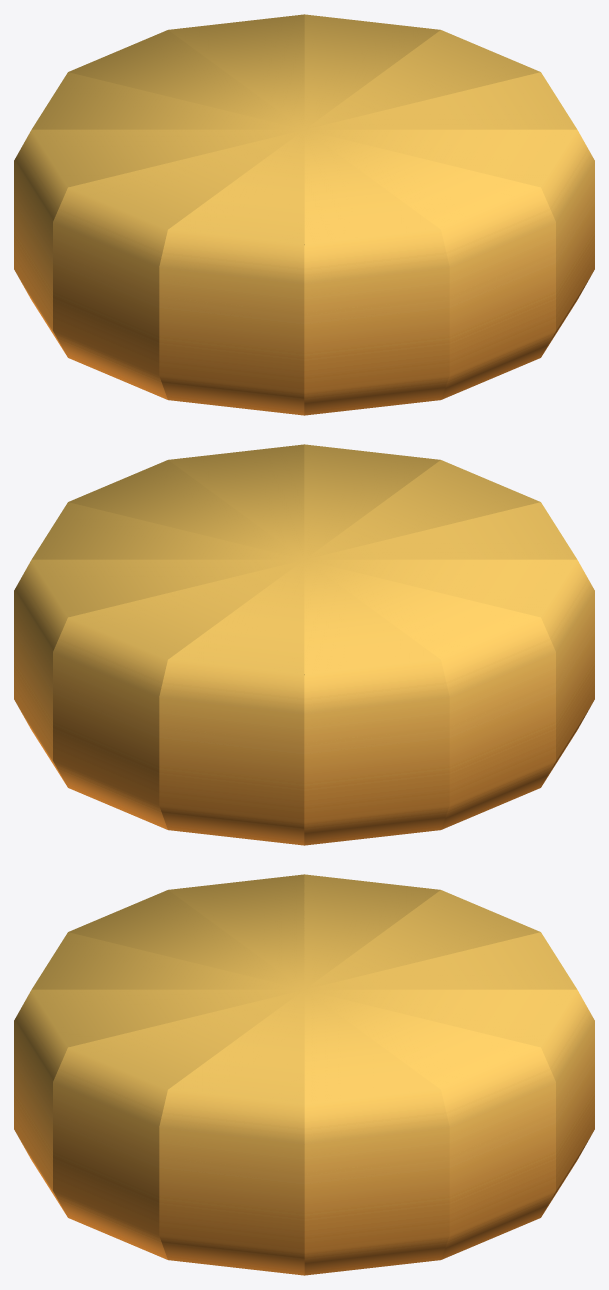
3 renders of one model, top to bottom at view 1: azimuth 30°, elevation 25°; view 2: azimuth 150°, elevation 25°; view 3: azimuth 270°, elevation 25°, orthographic.
Visible parts, largest first — view 1: wedge (×12); view 2: wedge (×12); view 3: wedge (×12).
Boxes of the visible parts, x1,y1,x2,y2 form: wedge (×12): [14, 14, 594, 415]; wedge (×12): [14, 444, 594, 845]; wedge (×12): [14, 874, 594, 1275].
Bounding box in the file's own units: 0.2852 × 0.0923 × 0.2852.
Materials: 1 (1 with a texture image).
